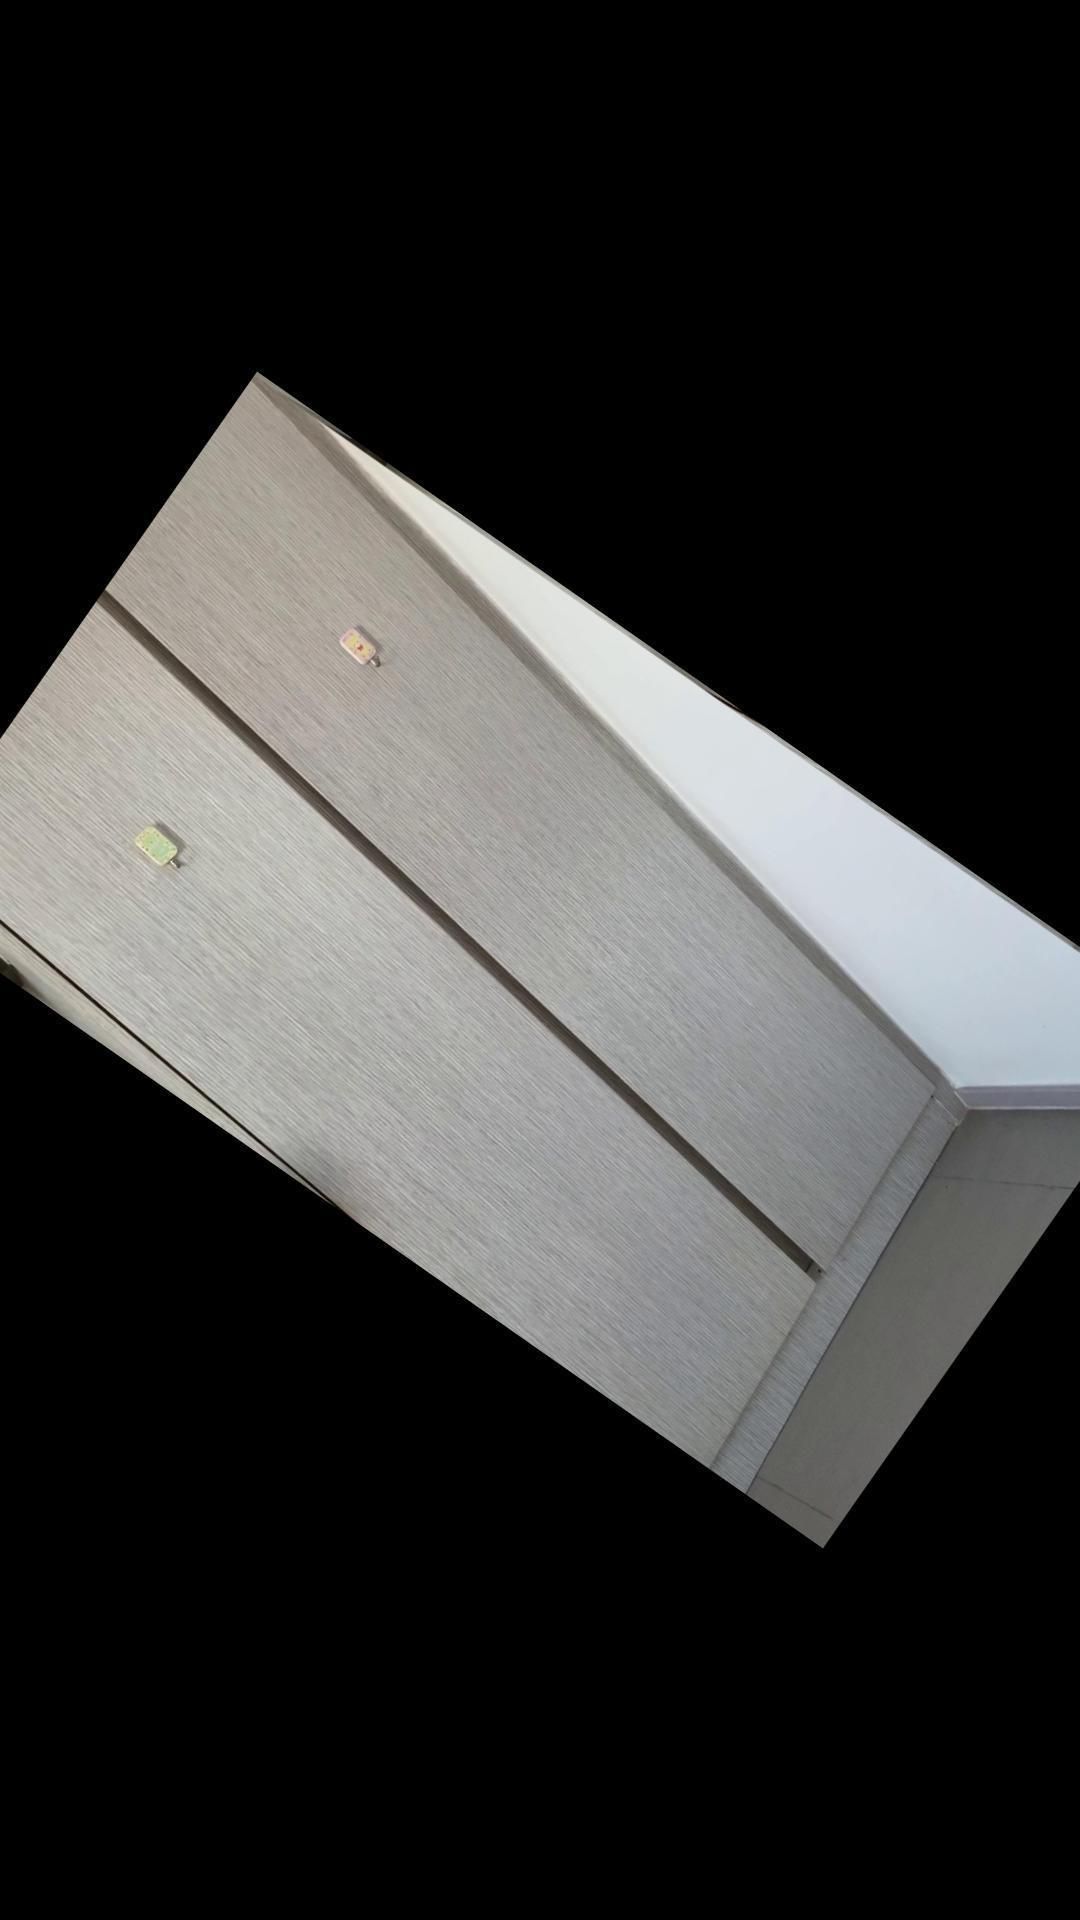Armario: (0, 385, 1080, 1487)
